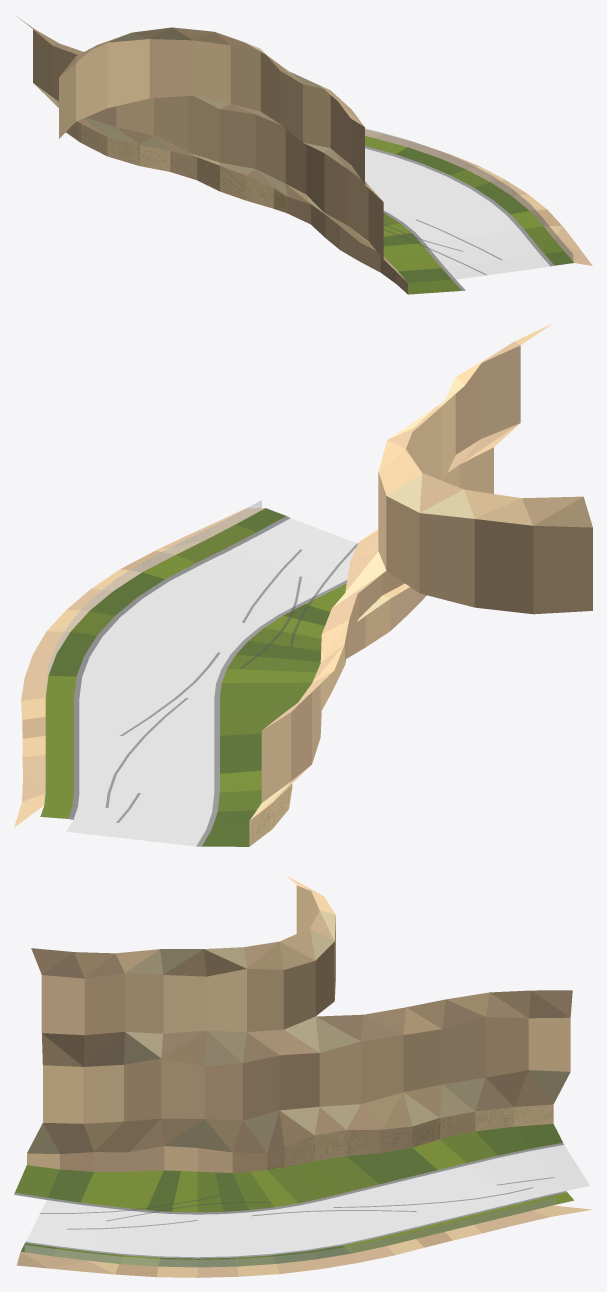
3 renders of one model, top to bottom at view 1: azimuth 30°, elevation 25°; view 2: azimuth 150°, elevation 25°; view 3: azimuth 270°, elevation 25°, orthographic. The views are drawn at different scales.
Visible parts, largest first — view 1: O241A4; view 2: O241A4; view 3: O241A4.
Part boxes in pixels (x1,y1,x2,y2): O241A4: [16, 16, 592, 294]; O241A4: [14, 324, 592, 846]; O241A4: [14, 876, 591, 1277].
Bounding box in the file's own units: 117 × 53 × 138.
